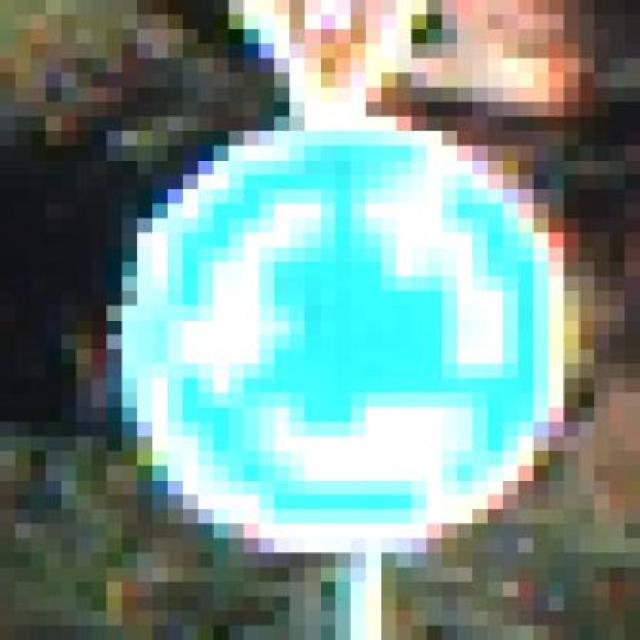Round-About: (61, 87, 610, 582)
